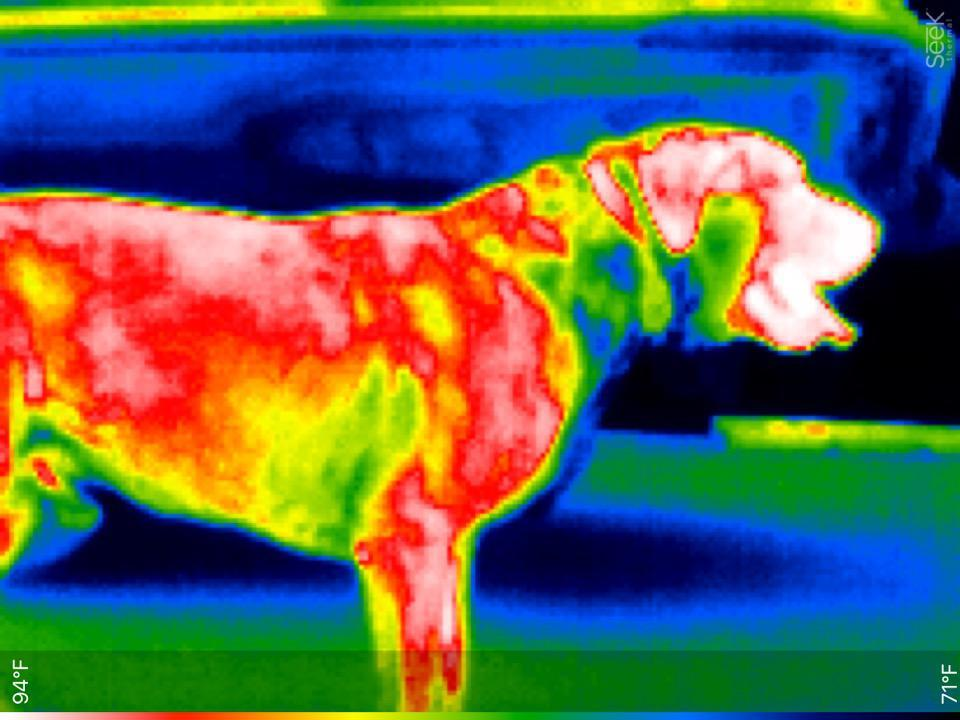dog: (0, 115, 885, 709)
